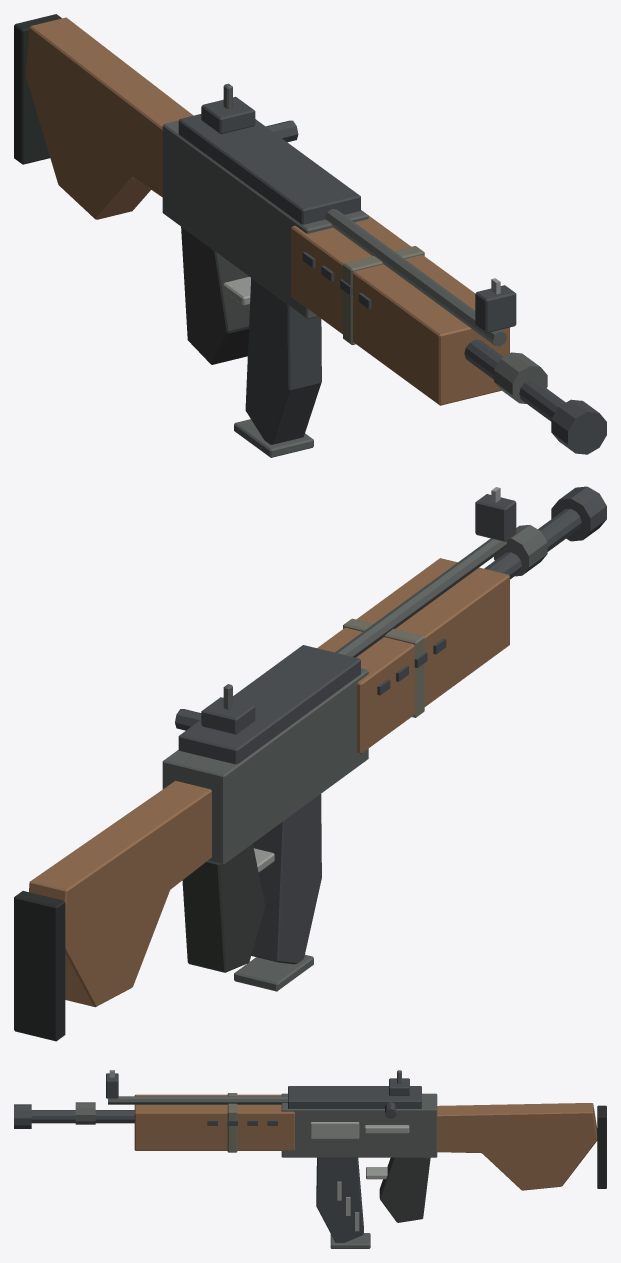
Rendered from survivor-ak.glb.
3 renders of one model, top to bottom at view 1: azimuth 30°, elevation 25°; view 2: azimuth 150°, elevation 25°; view 3: azimuth 270°, elevation 25°, orthographic. The views are drawn at different scales.
Visible parts, largest first — view 1: SURVIVOR_AK_Firearm; view 2: SURVIVOR_AK_Firearm; view 3: SURVIVOR_AK_Firearm.
Boxes of the visible parts, box(x1,y1,x2,y2) form: SURVIVOR_AK_Firearm: box(14, 14, 606, 457); SURVIVOR_AK_Firearm: box(14, 486, 606, 1041); SURVIVOR_AK_Firearm: box(14, 1070, 606, 1248).
Bounding box in the file's own units: 0.1033 × 0.3338 × 1.04.
